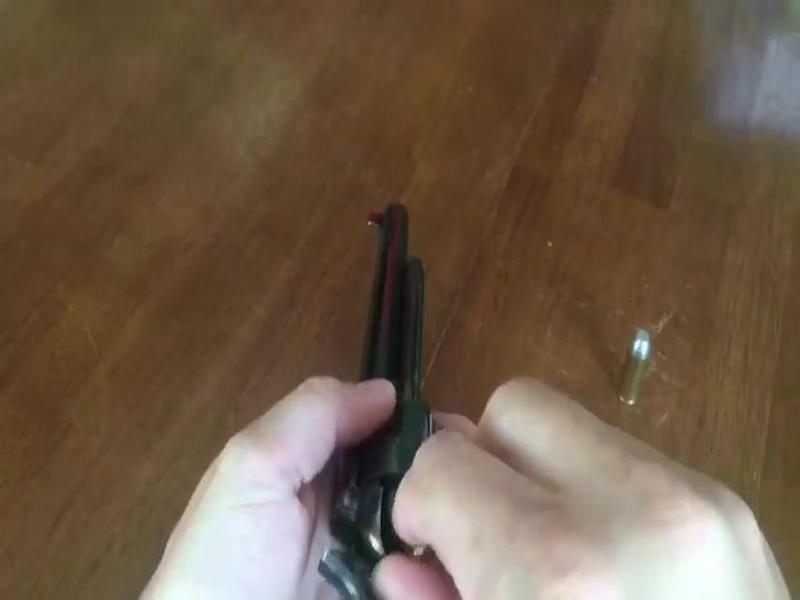Revolver: (295, 198, 495, 593)
